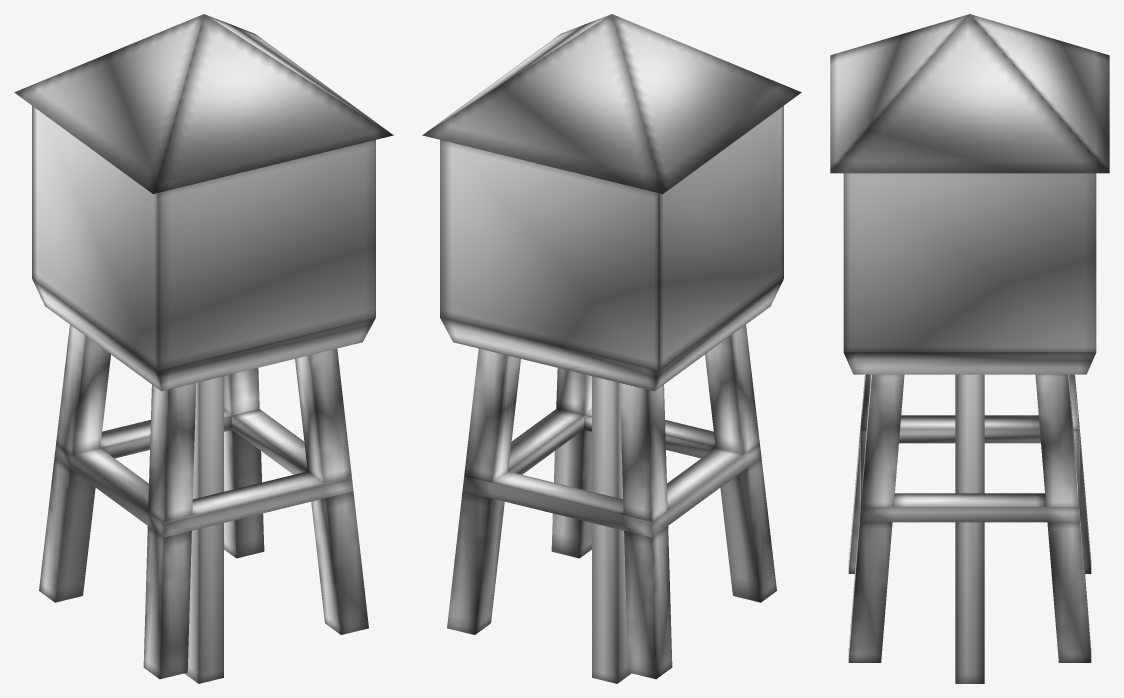
The model's file is Watch-Tower-01.fbx.
The picture shows the model from 3 angles, left to right: view 1: azimuth 30°, elevation 25°; view 2: azimuth 150°, elevation 25°; view 3: azimuth 270°, elevation 25°; orthographic projection.
Parts seen in each view (by area): view 1: Watch-Tower; view 2: Watch-Tower; view 3: Watch-Tower.
Part boxes in pixels (bbox=[...]): Watch-Tower: bbox=[14, 14, 393, 683]; Watch-Tower: bbox=[422, 14, 801, 683]; Watch-Tower: bbox=[830, 14, 1109, 683].
Size of the model in its own units: 1 by 2.62 by 1.
